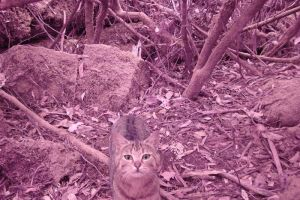house cat: (100, 105, 178, 200)
